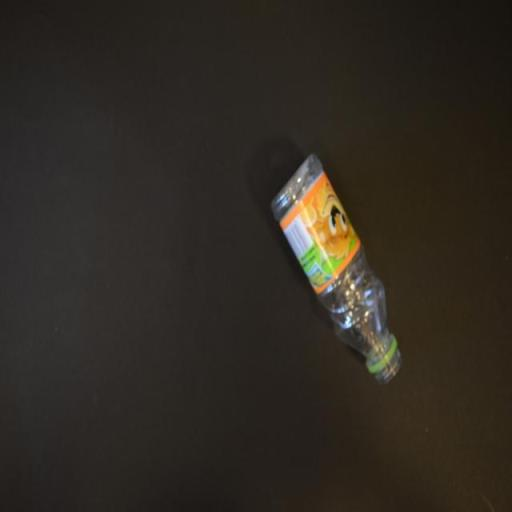plastic: (270, 152, 402, 386)
